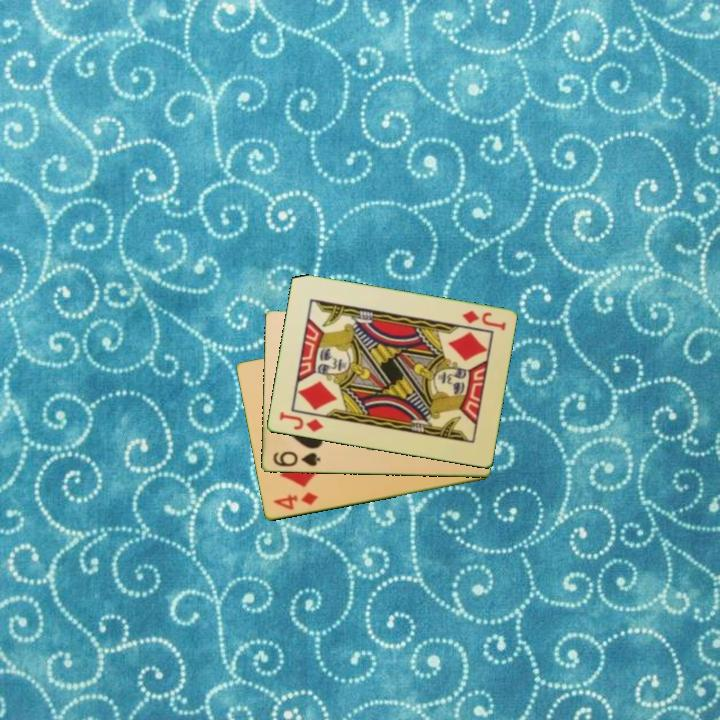4d: (269, 489, 321, 513)
6s: (269, 448, 323, 470)
Jd: (275, 408, 326, 435), (458, 307, 509, 334)
